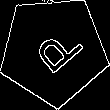P_SW: (24, 20, 84, 81)
